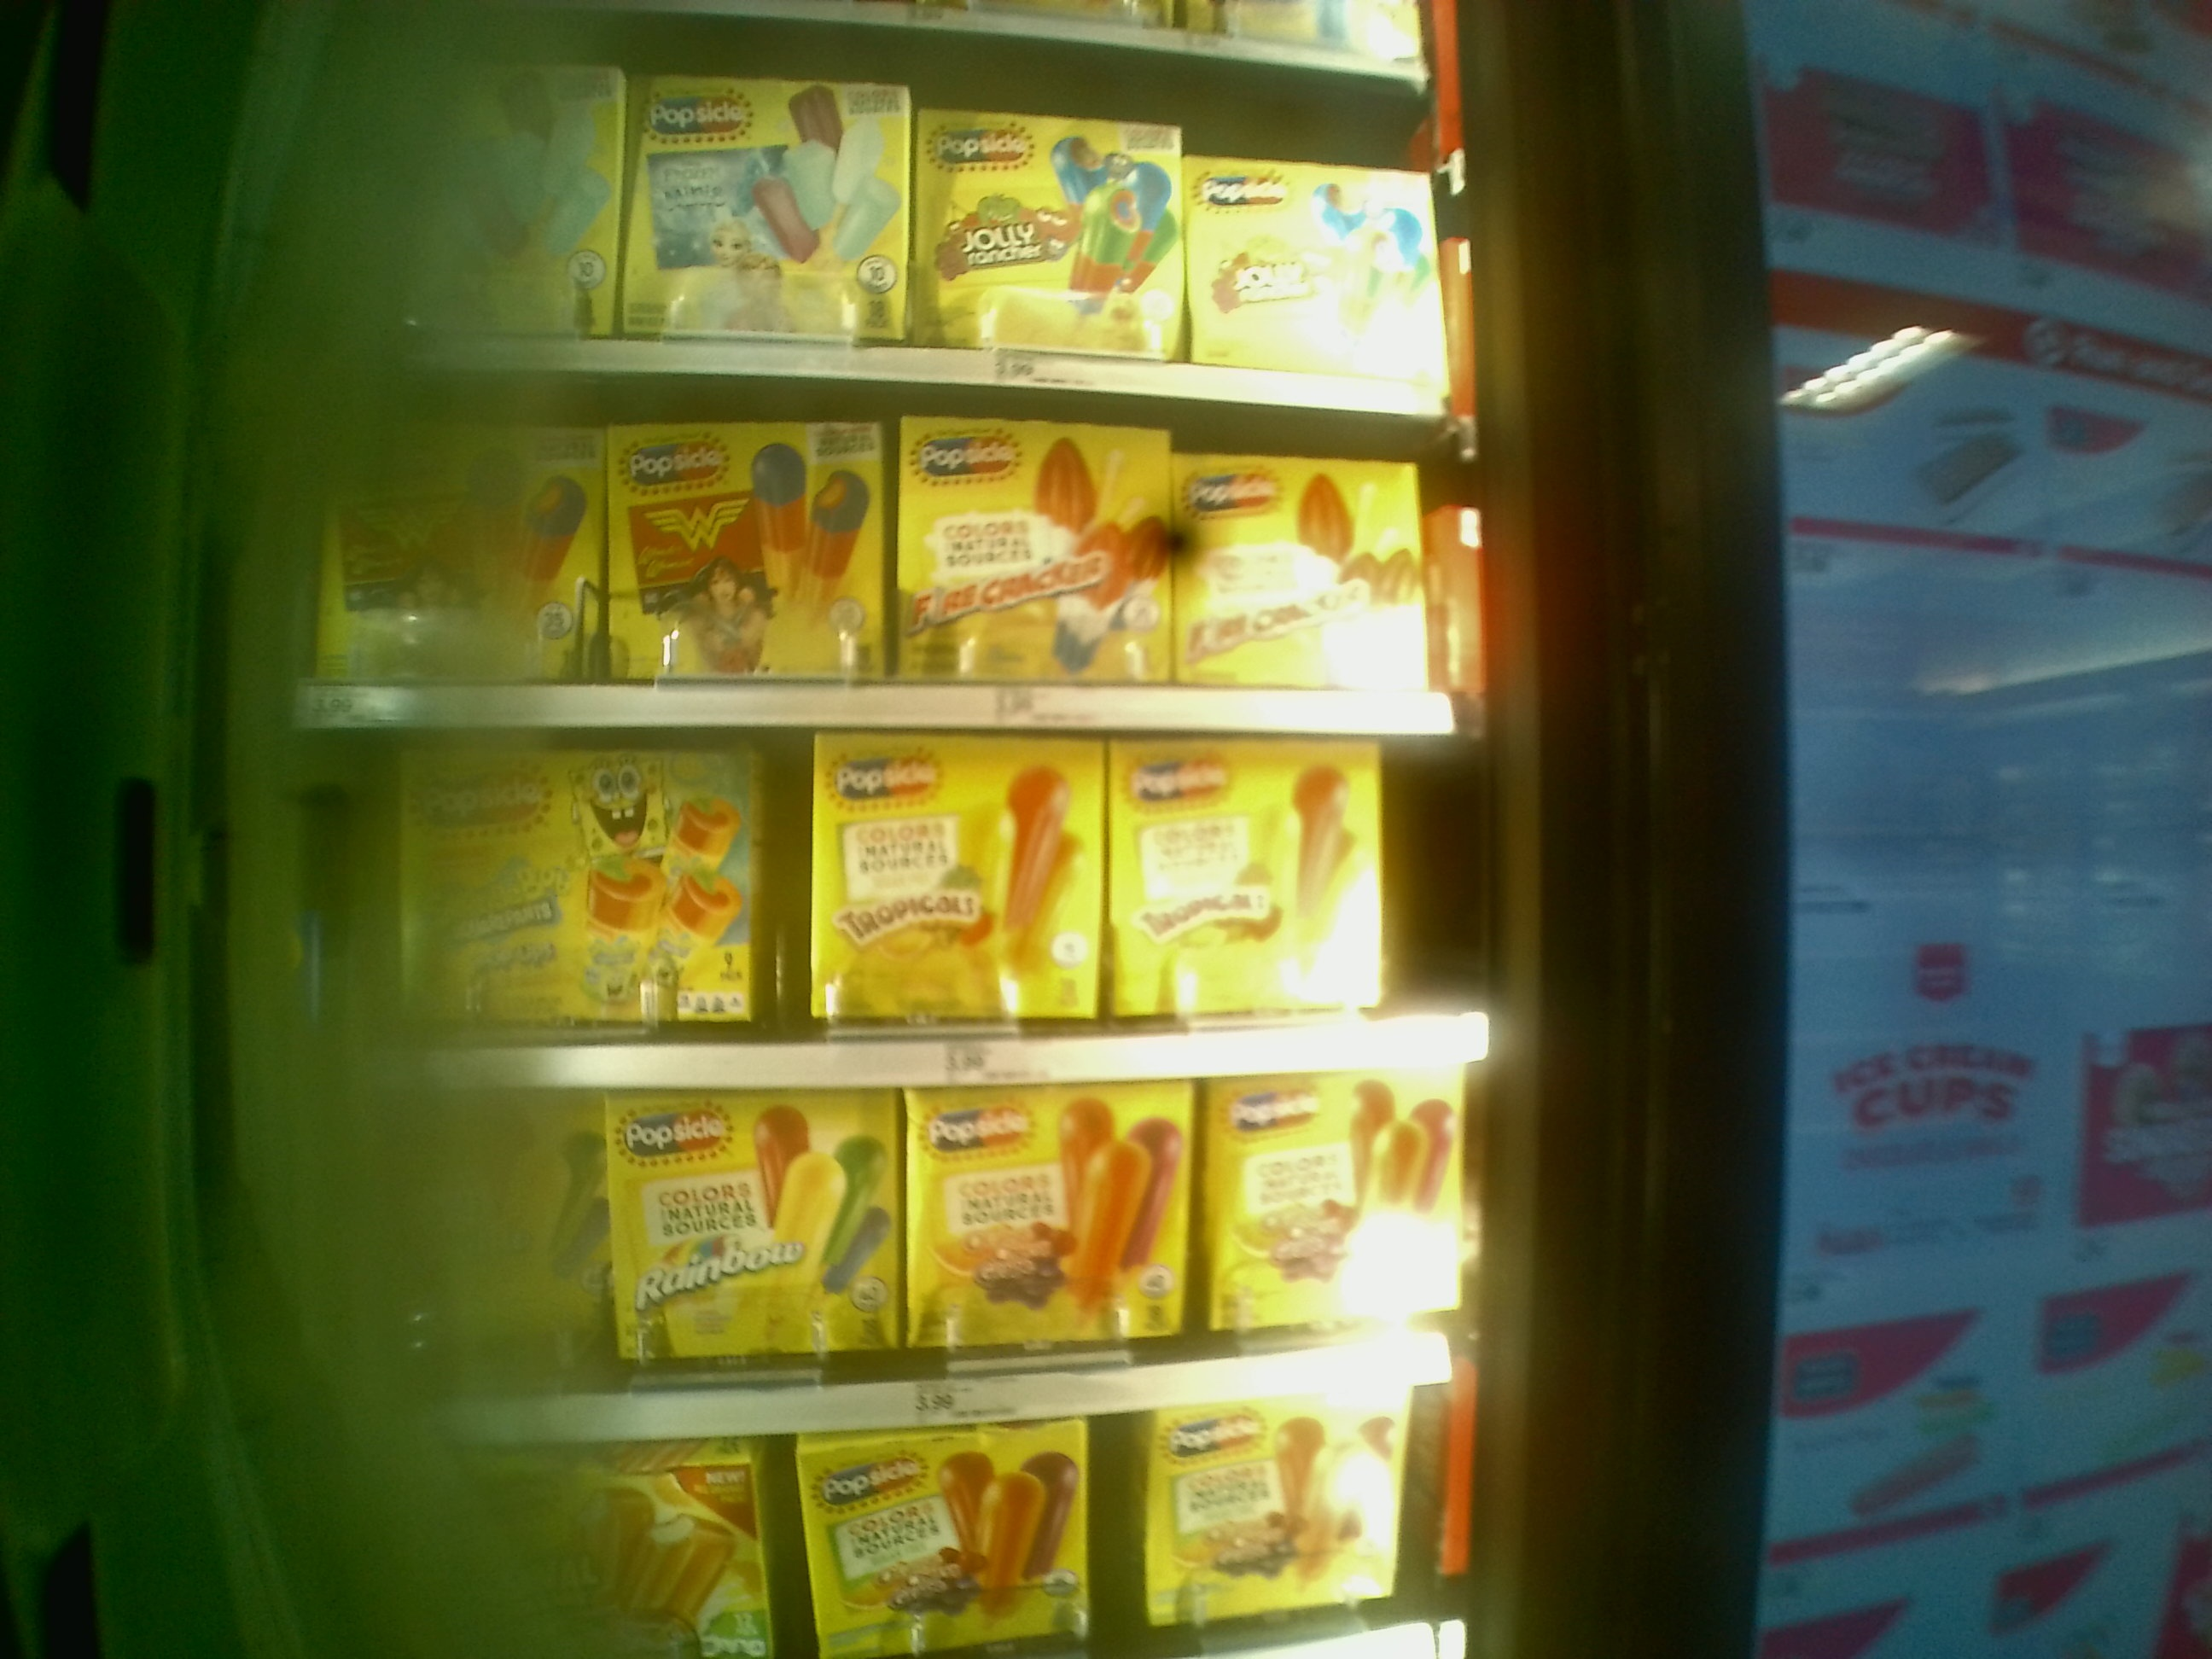frozen-food-shelf: (280, 737, 1515, 1089), (289, 404, 1508, 732)
